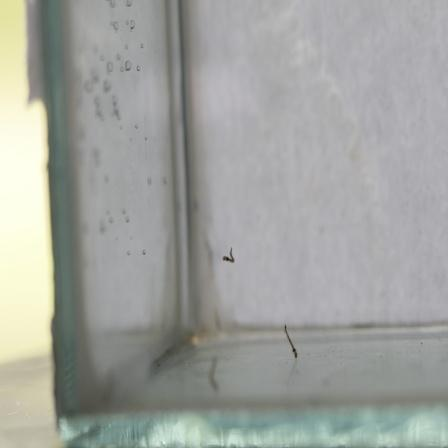Jentik-Nyamuk: (281, 322, 302, 362), (219, 243, 241, 269)
